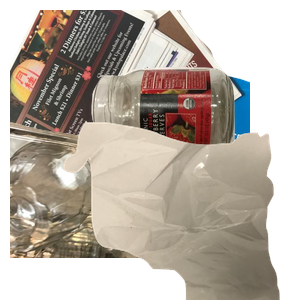glass: (89, 65, 300, 212)
paper: (10, 10, 250, 190)
plastic: (10, 120, 250, 300)
trash: (61, 120, 300, 300)
